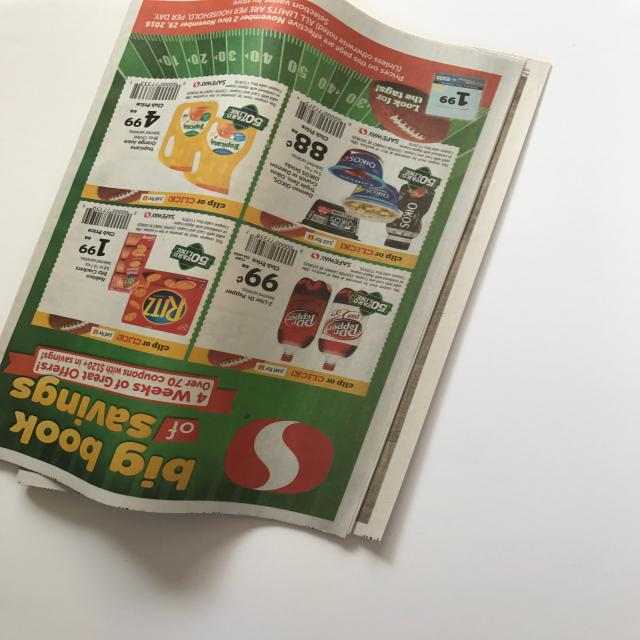Paper: (0, 0, 553, 545)
